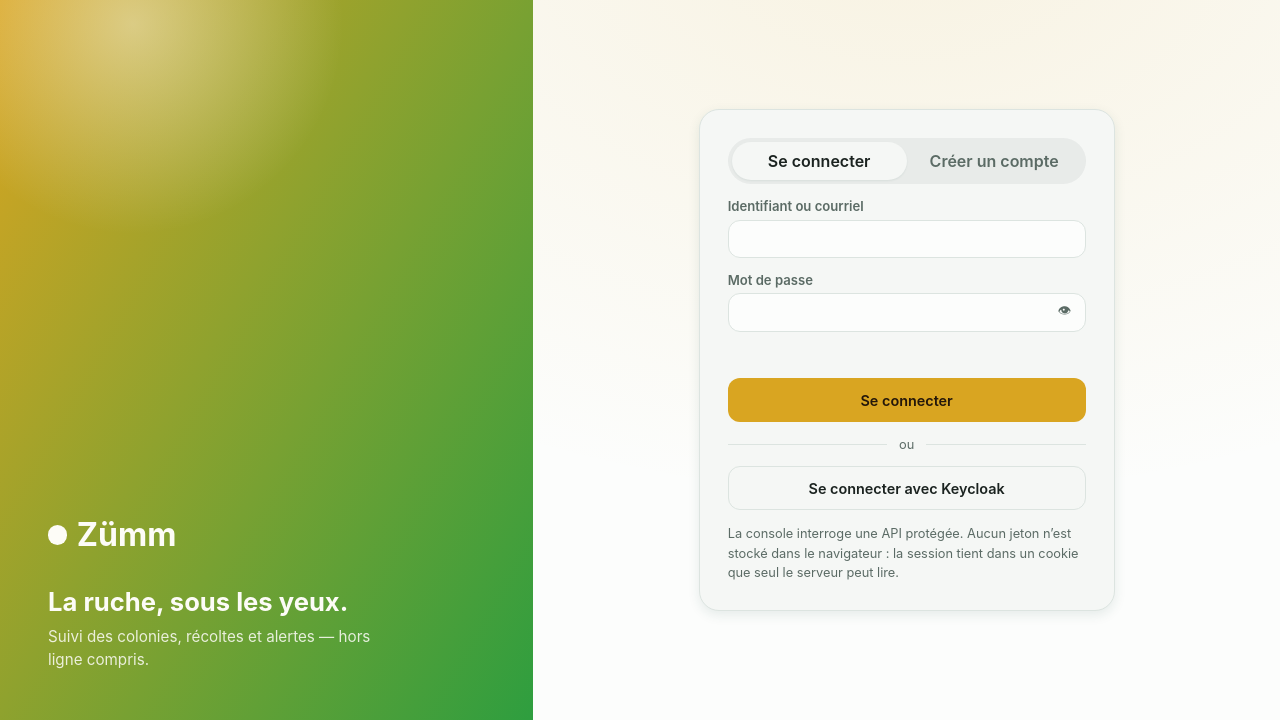
Scenario: écran d'entrée › bascule l’affichage du mot de passe sans changer sa valeur
The width and height of the screenshot is (1280, 720).
In the password field labelled "Mot de passe": (907, 313) [728, 293, 1086, 332], type "ruche-sans-fin-2026"
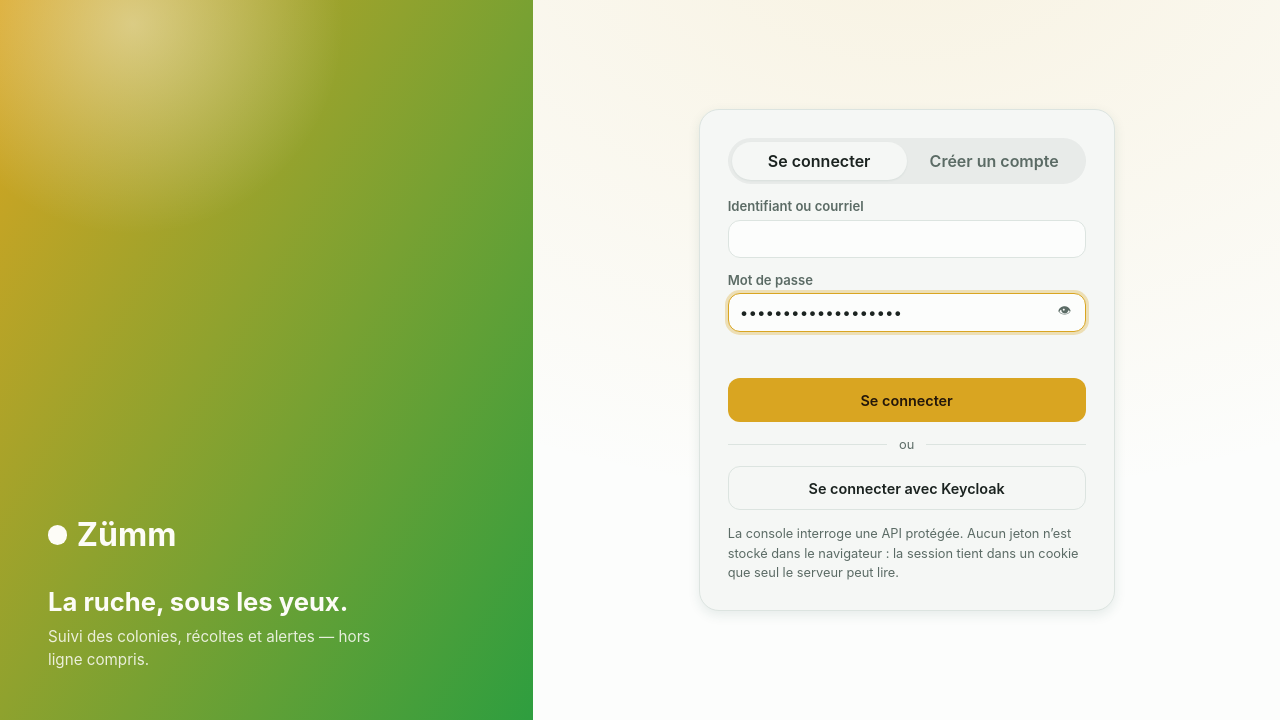
Click the button named "Afficher le mot de passe": (1065, 310) [1051, 300, 1078, 321]
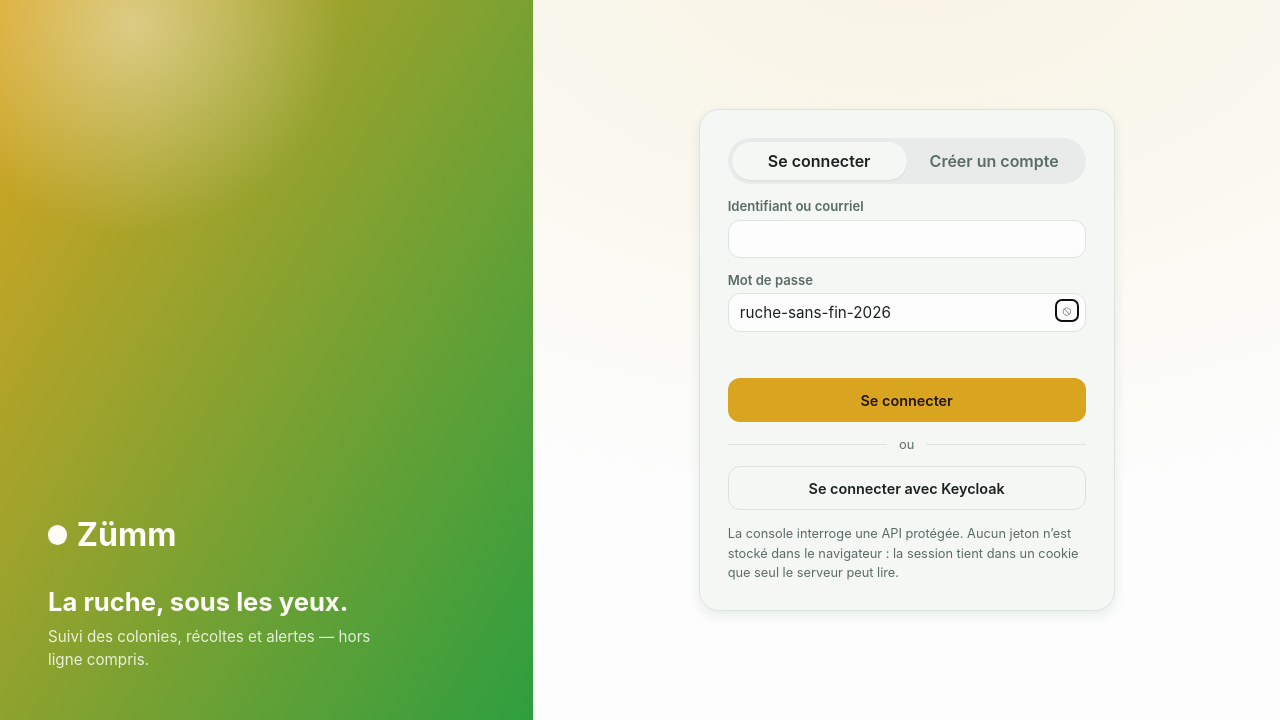
Now the field labelled "Mot de passe" shows its text, box [728, 293, 1086, 332]
